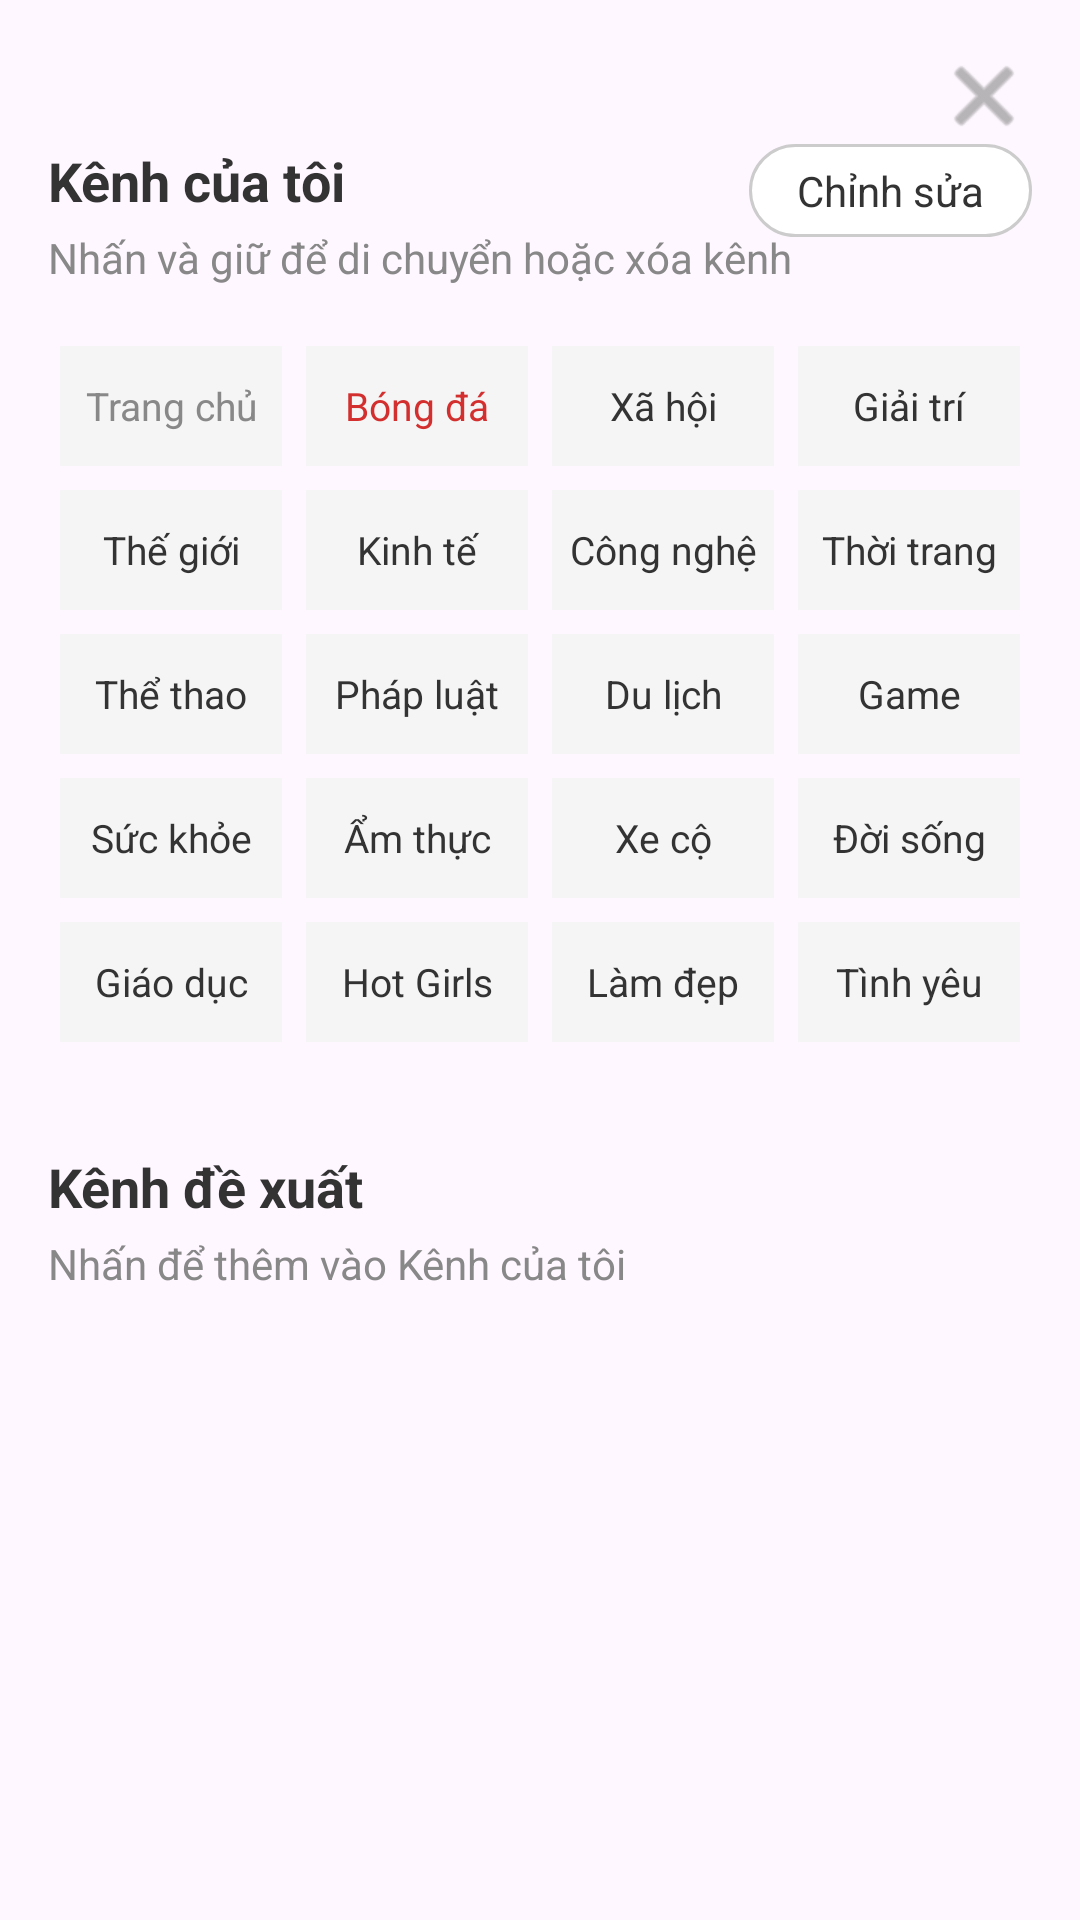

Named icons in this screenshot (1080x1920) and their bounding boxes, (x1=x1, y1=y1, x2=x2, y2=y2):
close clear cancel: (x1=955, y1=67, x2=1013, y2=125)
